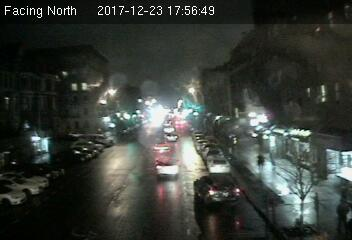car: (194, 175, 239, 206), (155, 157, 181, 178), (206, 156, 234, 174), (152, 141, 172, 157)
